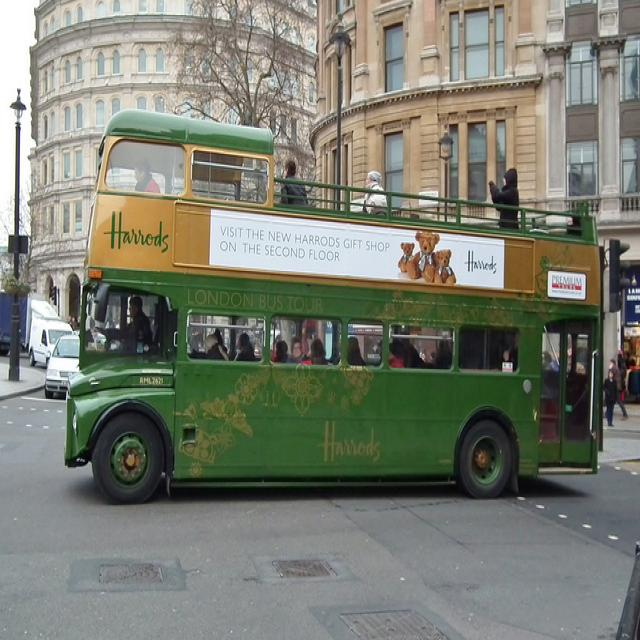Vehicle: (61, 111, 606, 509), (22, 297, 75, 369), (42, 334, 79, 398), (1, 293, 27, 357)
